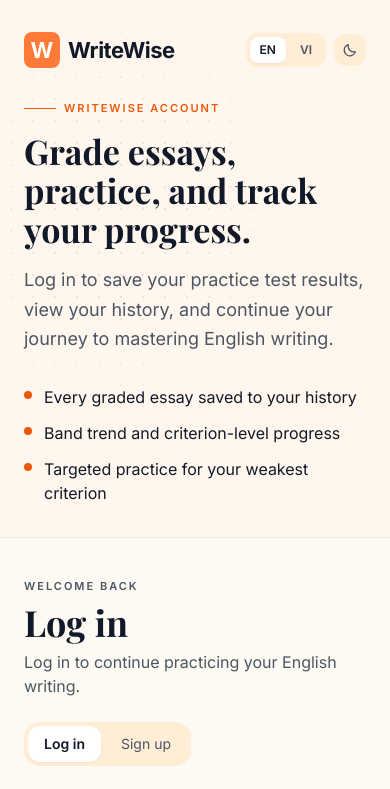
Test: AuthScreen › renders in Vietnamese when the interface is switched
Click the button "VI" at [306, 50], box [290,37,322,63]
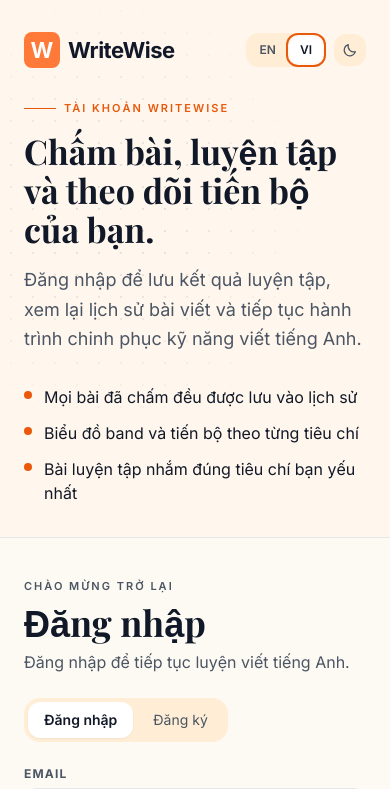
Expected: the text "WriteWise" is shown, [68,34,175,66]
Result: the text "Đăng nhập để tiếp tục luyện viết tiếng Anh." is shown at [24,650,366,674]
